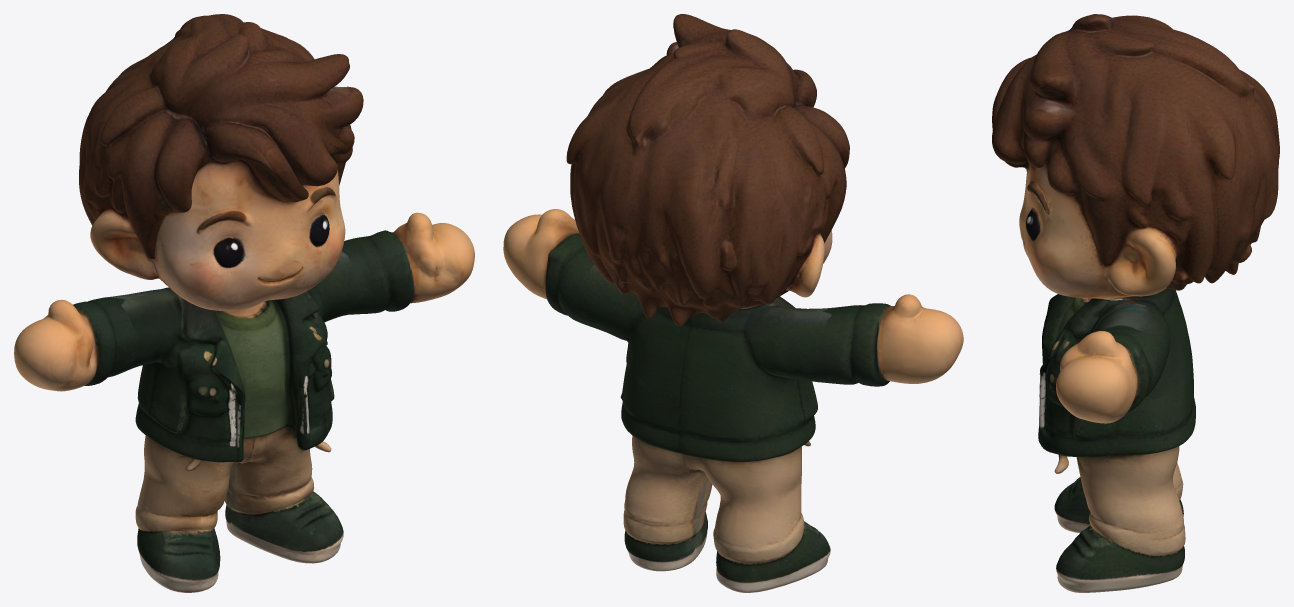
Rendered from kyle.glb.
3 renders of one model, left to right at view 1: azimuth 30°, elevation 25°; view 2: azimuth 150°, elevation 25°; view 3: azimuth 270°, elevation 25°, orthographic. The views are drawn at different scales.
Parts seen in each view (by area): view 1: kyle; view 2: kyle; view 3: kyle.
Part boxes in pixels (x1,y1,x2,y2): kyle: [14, 14, 474, 592]; kyle: [503, 14, 963, 592]; kyle: [992, 14, 1279, 592].
Bounding box in the file's own units: 0.8925 × 1 × 0.4862.
1 material, 1 textured.
